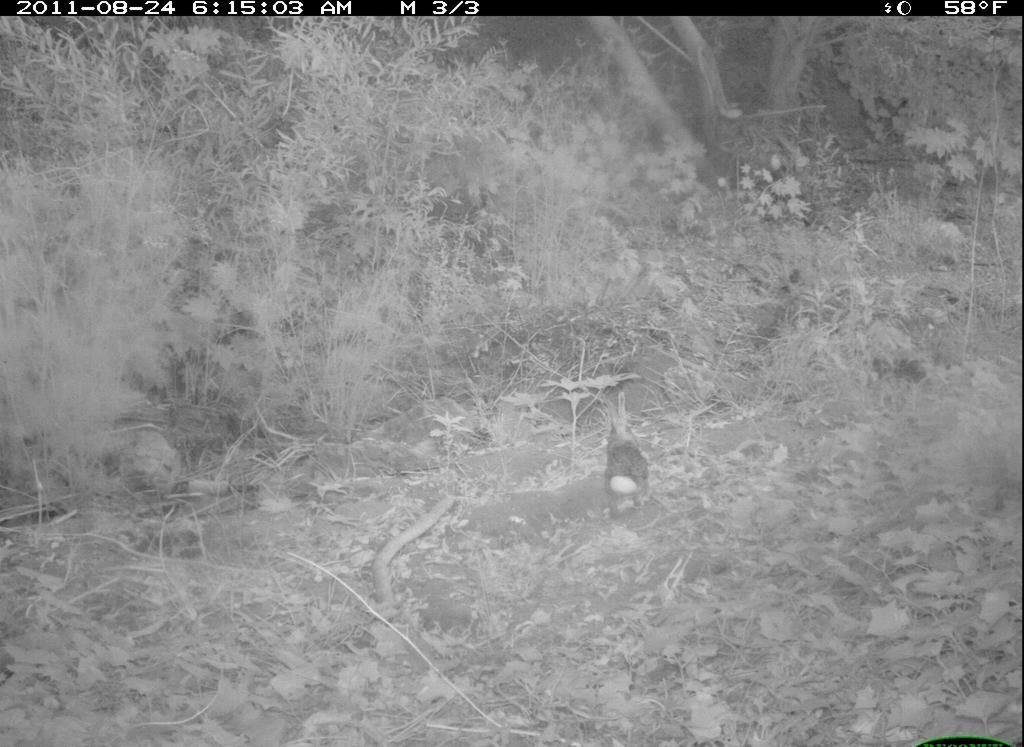rabbit: (585, 393, 671, 506)
